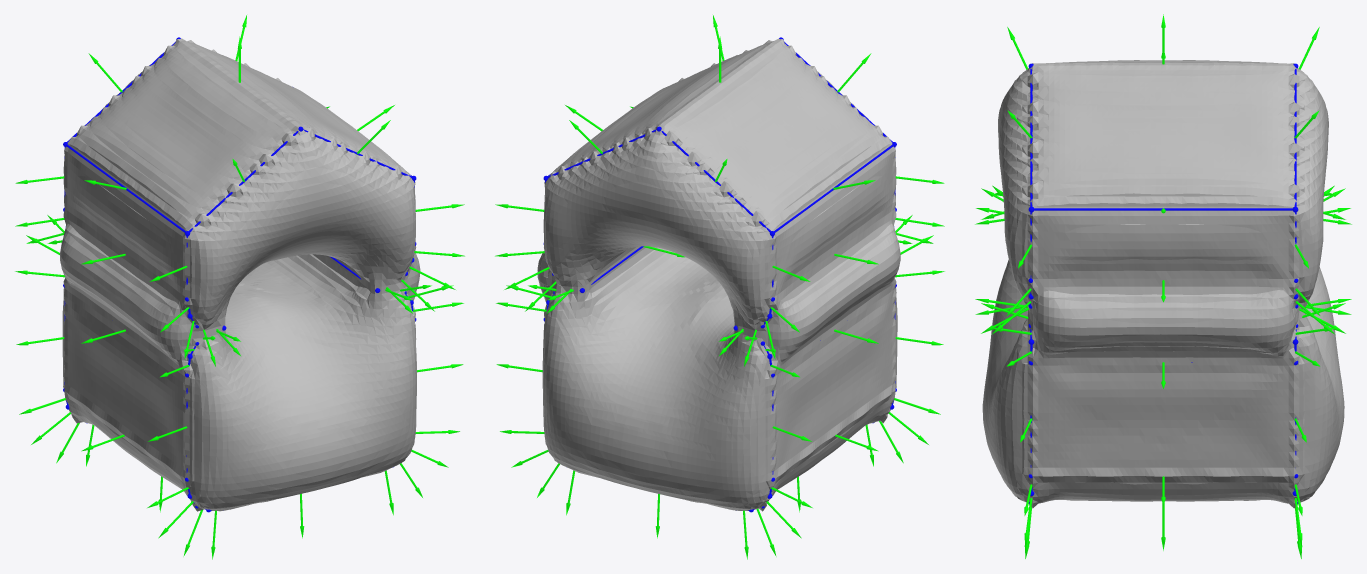
The model's file is onshape_house.gltf.
The picture shows the model from 3 angles, left to right: view 1: azimuth 30°, elevation 25°; view 2: azimuth 150°, elevation 25°; view 3: azimuth 270°, elevation 25°; orthographic projection. The views are drawn at different scales.
Size of the model in its own units: 0.6888 by 0.9436 by 0.6528.
